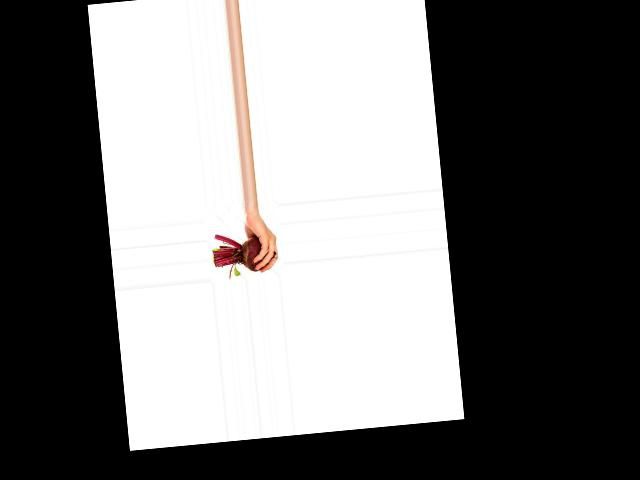beet: (211, 229, 278, 280)
